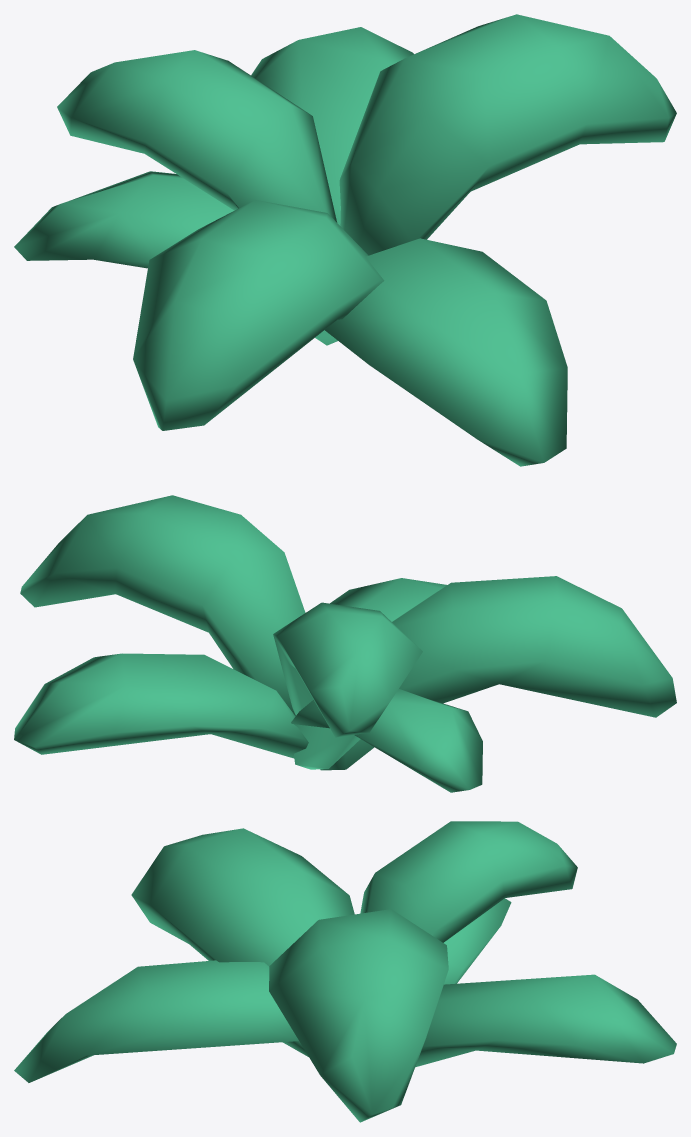
File: plant.fbx
3 renders of one model, top to bottom at view 1: azimuth 30°, elevation 25°; view 2: azimuth 150°, elevation 25°; view 3: azimuth 270°, elevation 25°, orthographic. The views are drawn at different scales.
Parts seen in each view (by area): view 1: plantA_forest; view 2: plantA_forest; view 3: plantA_forest.
Part boxes in pixels (x1=…): plantA_forest: x1=14, y1=14, x2=676, y2=466; plantA_forest: x1=14, y1=495, x2=676, y2=792; plantA_forest: x1=14, y1=821, x2=676, y2=1122.
Bounding box in the file's own units: 67.12 × 26.21 × 69.76.
